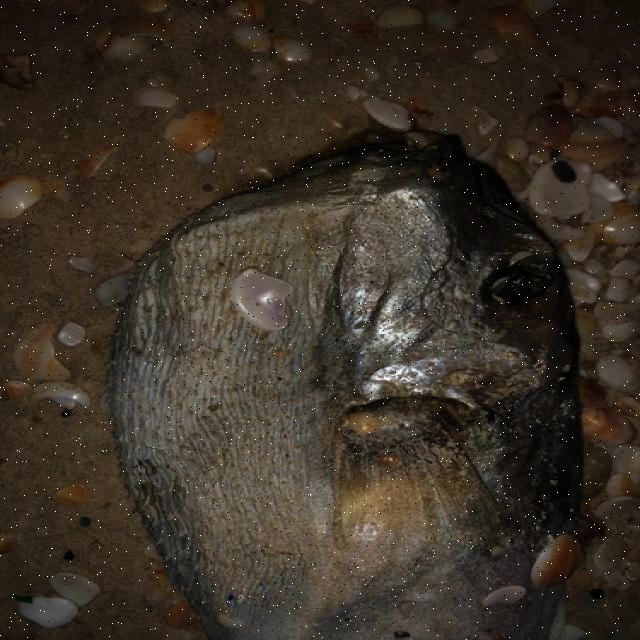Balik: (111, 137, 581, 639)
